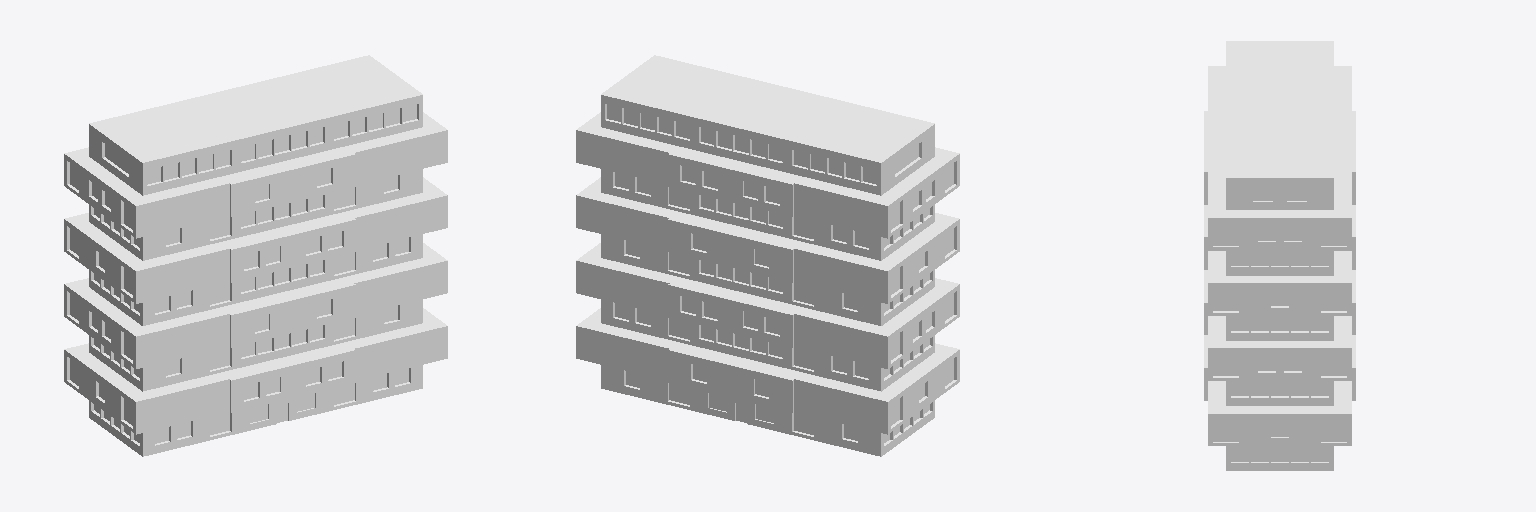
The model's file is Buildings_01-6.obj.
3 views of the same model, side by side, from view 1: azimuth 30°, elevation 25°; view 2: azimuth 150°, elevation 25°; view 3: azimuth 270°, elevation 25° (orthographic).
Parts seen in each view (by area): view 1: object 1; view 2: object 1; view 3: object 1.
Part boxes in pixels (x1,y1,x2,y2): object 1: (64, 55, 447, 456); object 1: (576, 55, 959, 456); object 1: (1204, 41, 1355, 470).
Size of the model in its own units: 20 by 18 by 8.4.